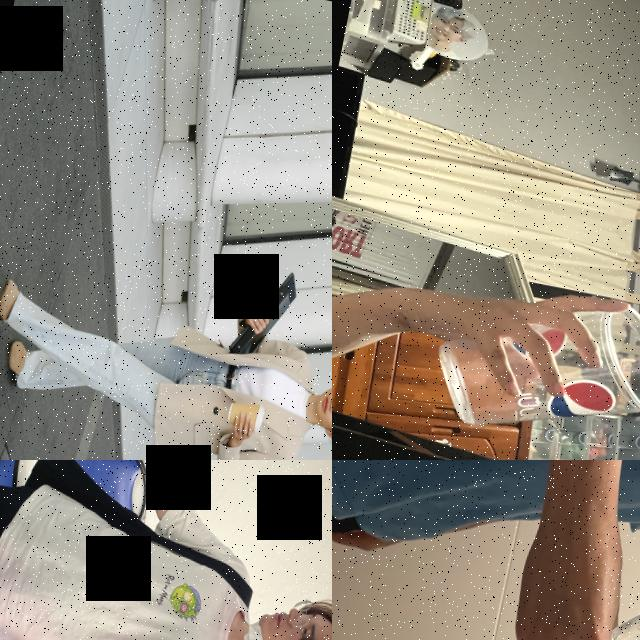cup: (423, 269, 640, 460), (224, 397, 266, 435)
